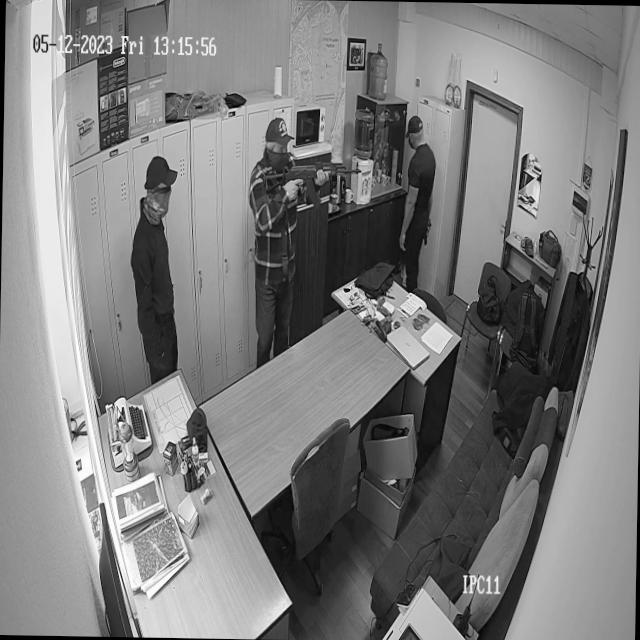gun: (249, 121, 362, 372), (396, 115, 435, 282), (265, 156, 362, 216), (420, 215, 432, 247)
person: (128, 158, 182, 380)
